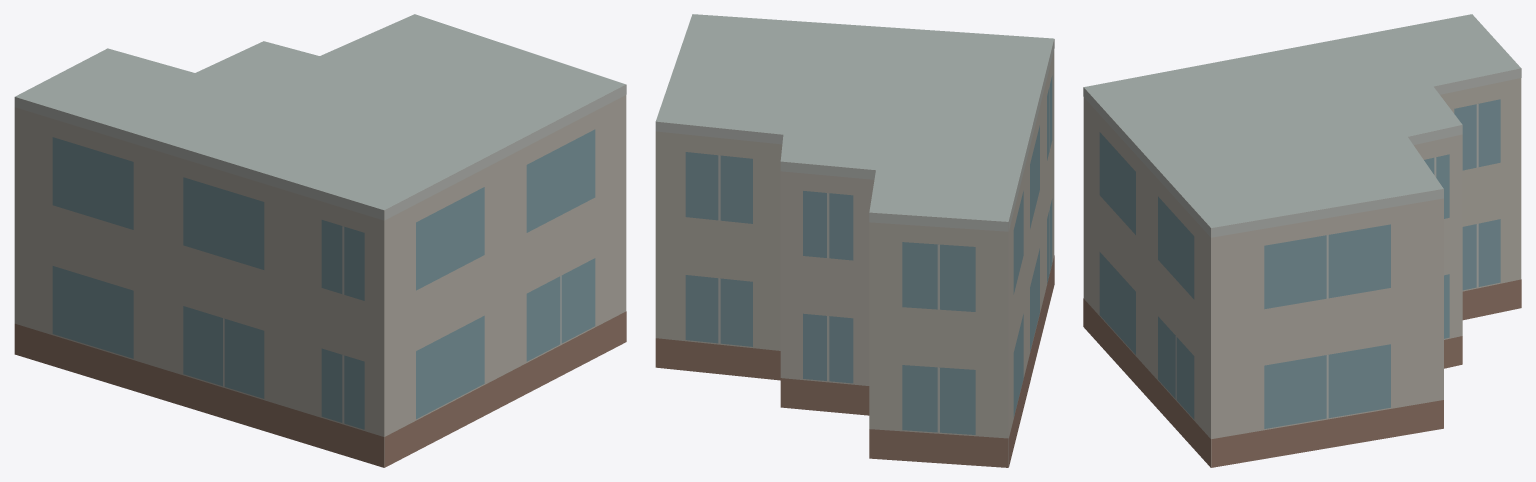
File: survey-upis-32529541.glb
The picture shows the model from 3 angles, left to right: view 1: azimuth 30°, elevation 25°; view 2: azimuth 150°, elevation 25°; view 3: azimuth 270°, elevation 25°; orthographic projection. The views are drawn at different scales.
Visible parts, largest first — view 1: survey-upis-32529541.tmp; view 2: survey-upis-32529541.tmp; view 3: survey-upis-32529541.tmp.
Boxes of the visible parts, <box> form: survey-upis-32529541.tmp: <box>14,14,626,467</box>; survey-upis-32529541.tmp: <box>655,14,1054,467</box>; survey-upis-32529541.tmp: <box>1083,14,1521,467</box>.
Bounding box in the file's own units: 11.7 × 6.1 × 10.11.
